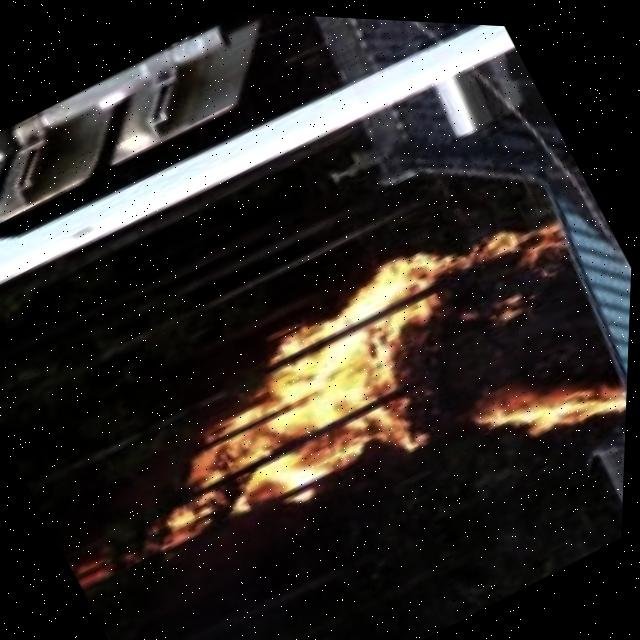Fire: (74, 163, 635, 640)
